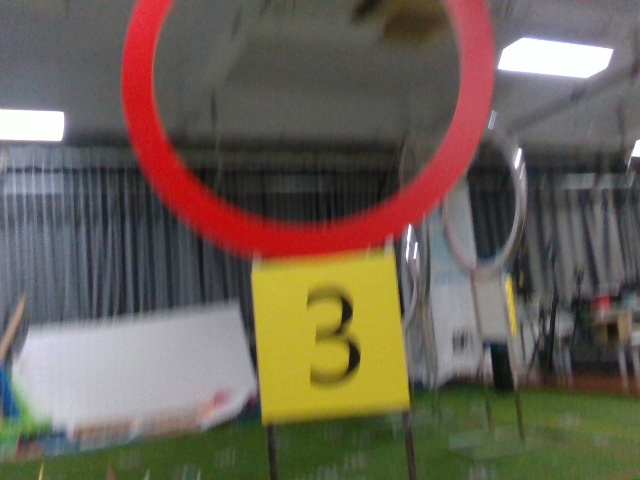target: (260, 270, 396, 404)
